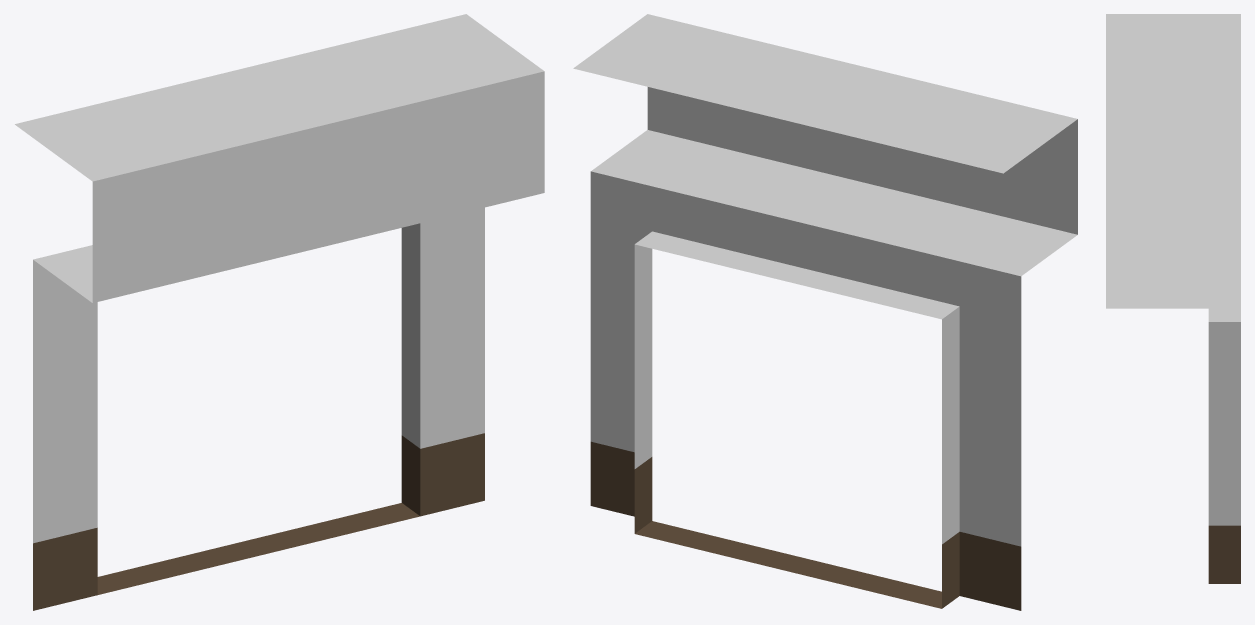
Rendered from M_WallDoorH250DWhite80-3.fbx.
3 views of the same model, side by side, from view 1: azimuth 30°, elevation 25°; view 2: azimuth 150°, elevation 25°; view 3: azimuth 270°, elevation 25° (orthographic). The views are drawn at different scales.
Visible parts, largest first — view 1: M_WallDoorH250DWhite80-3; view 2: M_WallDoorH250DWhite80-3; view 3: M_WallDoorH250DWhite80-3.
Part boxes in pixels (x1,y1,x2,y2): M_WallDoorH250DWhite80-3: (15, 14, 544, 610); M_WallDoorH250DWhite80-3: (573, 14, 1077, 610); M_WallDoorH250DWhite80-3: (1106, 14, 1240, 583).
Size of the model in its own units: 350 by 105 by 350.
